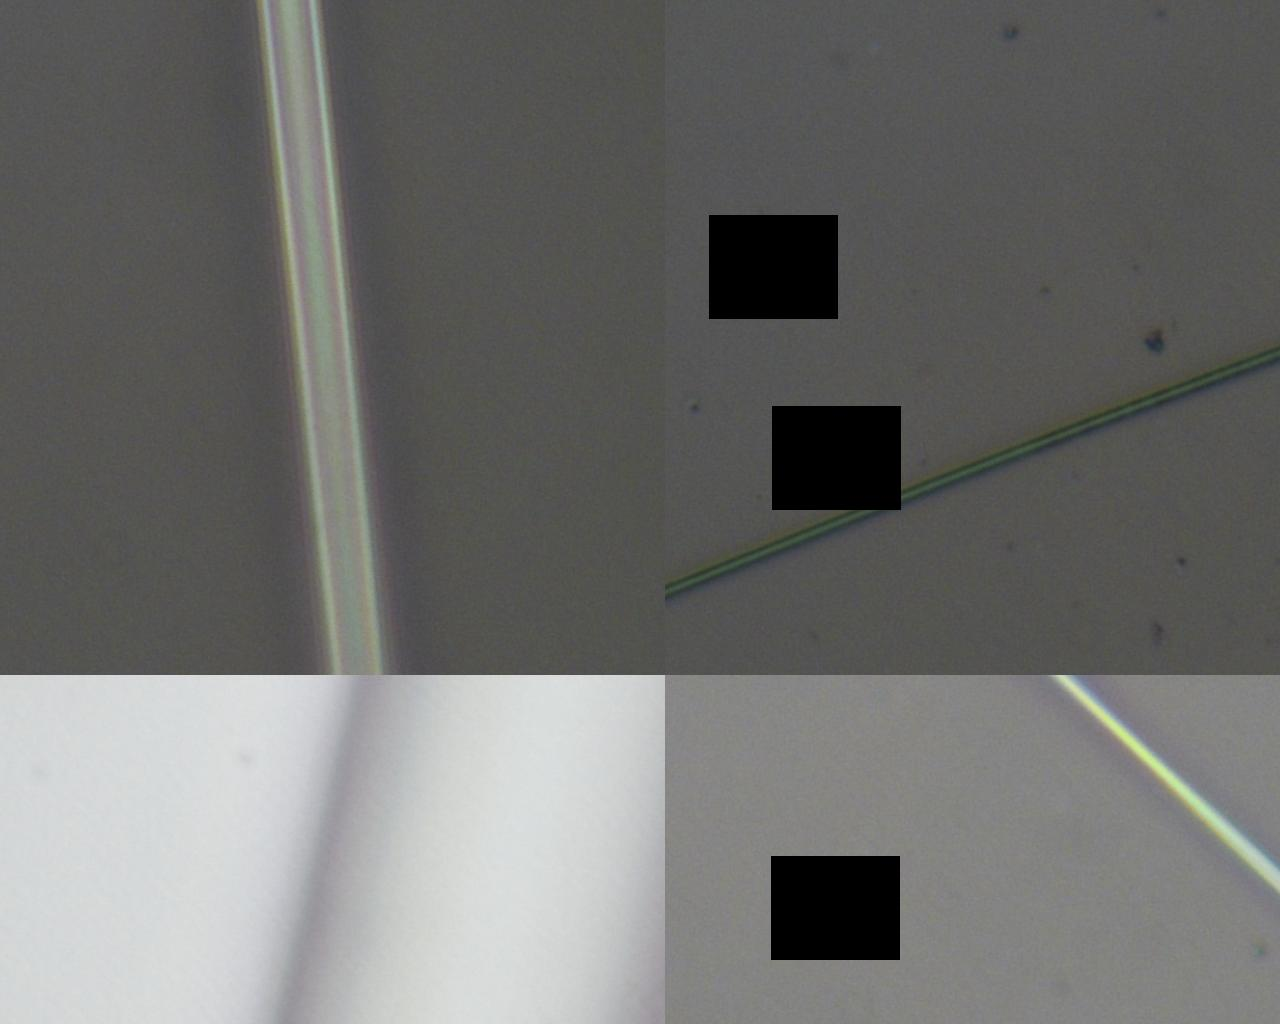fiber: (397, 0, 737, 614), (883, 0, 1074, 614), (523, 614, 686, 1024), (883, 614, 912, 1024)
